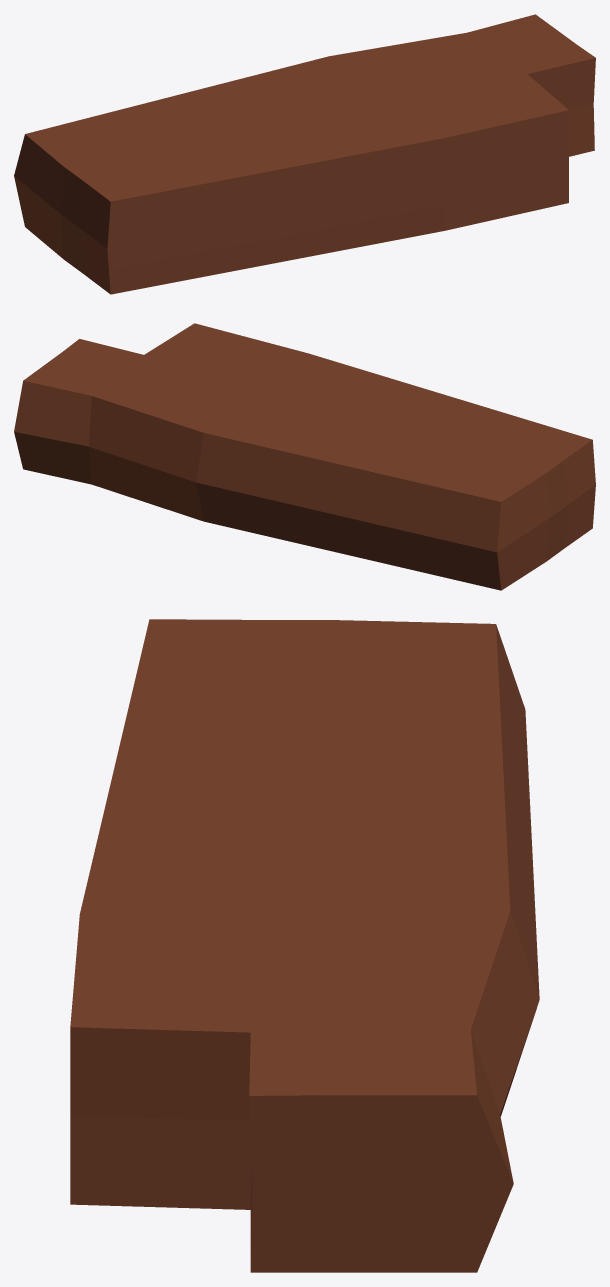
Rendered from buildgun_grip2.fbx.
The picture shows the model from 3 angles, top to bottom: view 1: azimuth 30°, elevation 25°; view 2: azimuth 150°, elevation 25°; view 3: azimuth 270°, elevation 25°; orthographic projection. The views are drawn at different scales.
Visible parts, largest first — view 1: Buildgun_Grip; view 2: Buildgun_Grip; view 3: Buildgun_Grip.
Boxes of the visible parts, <box> form: Buildgun_Grip: <box>14,14,595,294</box>; Buildgun_Grip: <box>14,323,595,590</box>; Buildgun_Grip: <box>70,619,539,1272</box>.
Size of the model in its own units: 94.58 by 16.31 by 39.1.
